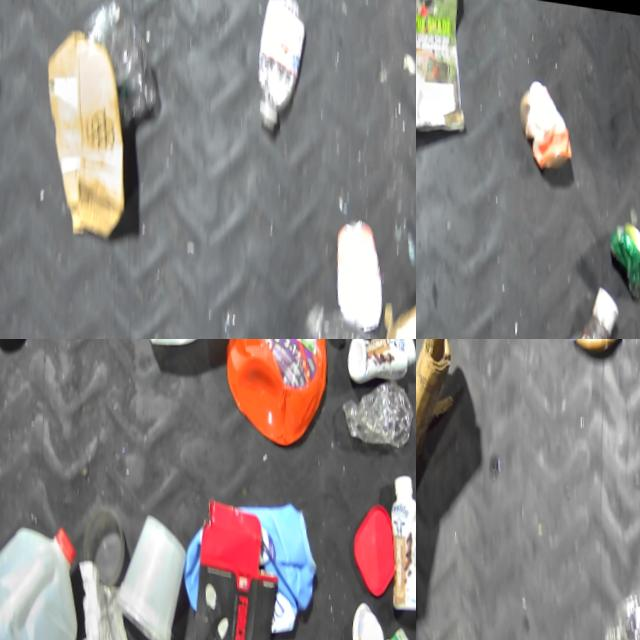can: (320, 203, 384, 330), (510, 69, 573, 169), (599, 206, 640, 288)
milk_jug: (0, 506, 84, 640)
non_white_jug: (169, 476, 320, 632), (209, 339, 335, 445)
plastic_bottle: (506, 265, 624, 339), (335, 363, 415, 442), (283, 292, 411, 339)
